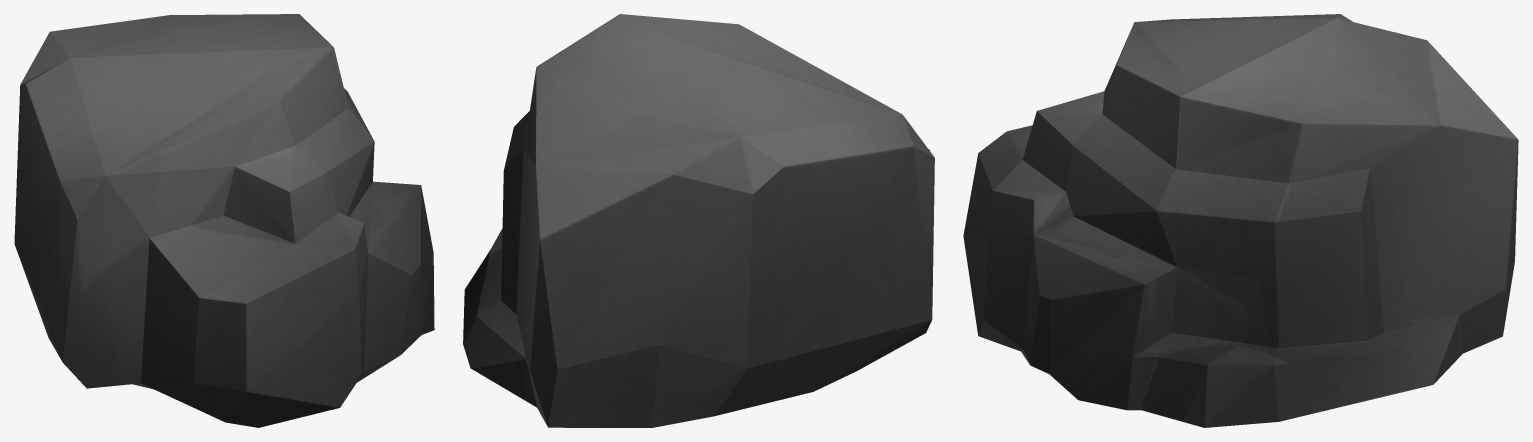
File: rock_2.glb
The picture shows the model from 3 angles, left to right: view 1: azimuth 30°, elevation 25°; view 2: azimuth 150°, elevation 25°; view 3: azimuth 270°, elevation 25°; orthographic projection. The views are drawn at different scales.
Visible parts, largest first — view 1: Rock_2; view 2: Rock_2; view 3: Rock_2.
Part boxes in pixels (x1,y1,x2,y2): Rock_2: (14,14,434,427); Rock_2: (463,14,934,427); Rock_2: (963,14,1518,427).
Size of the model in its own units: 2.67 by 1.78 by 3.06.
Materials: 1 (1 with a texture image).
